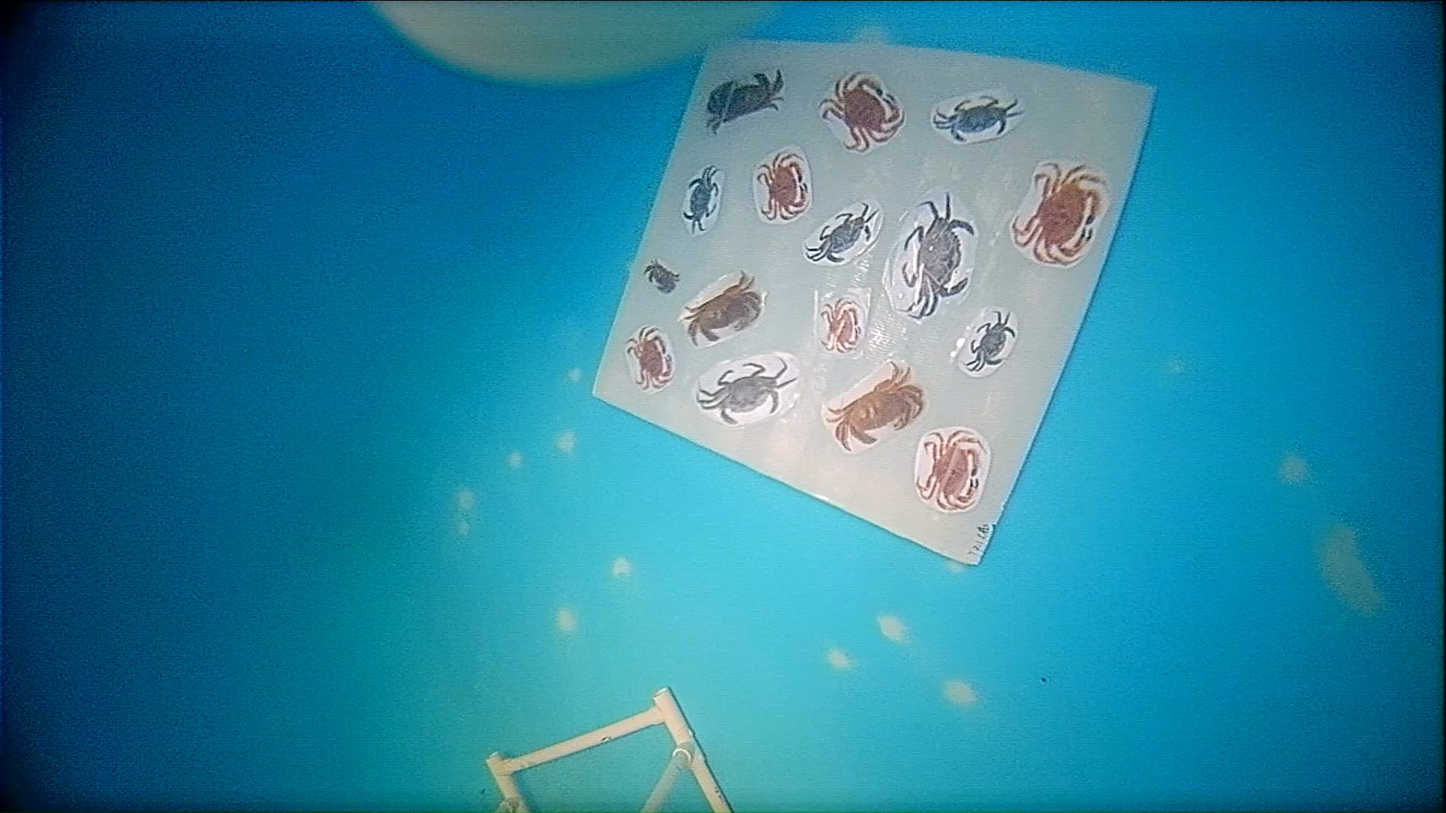GreenCrab: (906, 194, 973, 315), (934, 96, 1021, 140), (806, 204, 871, 261), (965, 311, 1016, 371)
